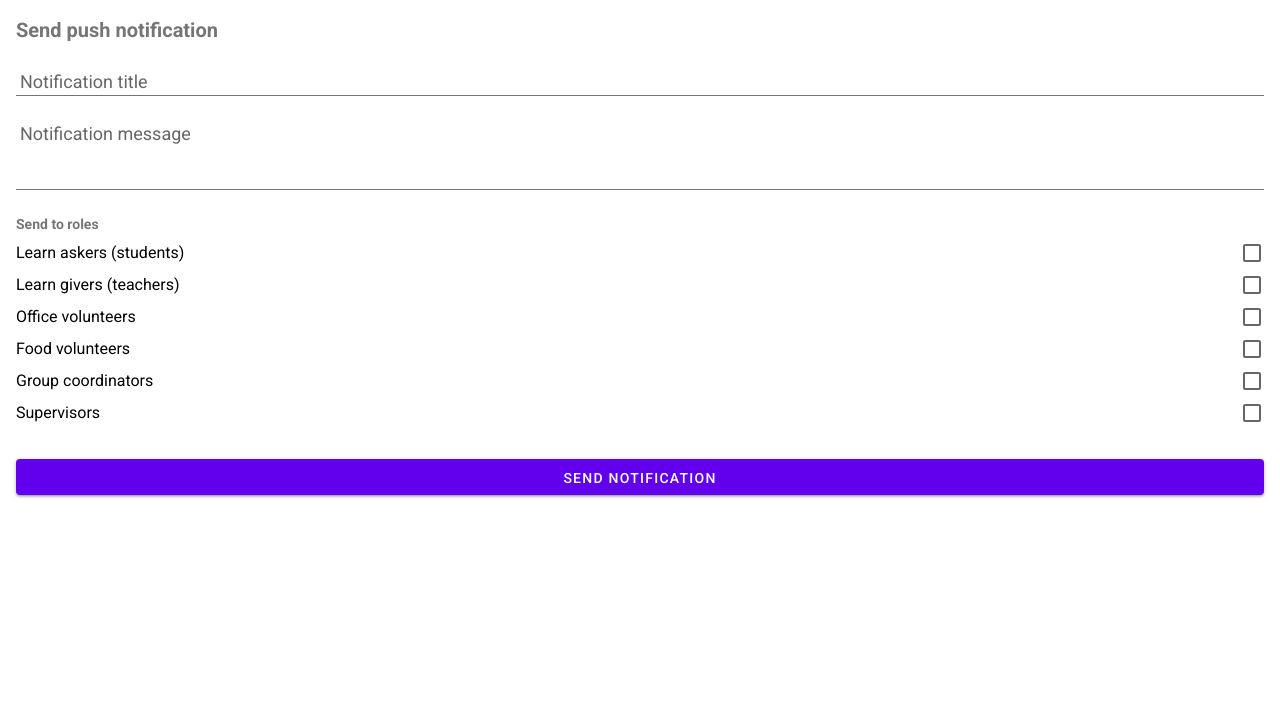
SendNotificationScreen › needs a title, a message and a role
This screenshot has width=1280, height=720.
Click the button "Send notification" at [640, 477], box x1=16 y1=459 x2=1264 y2=495
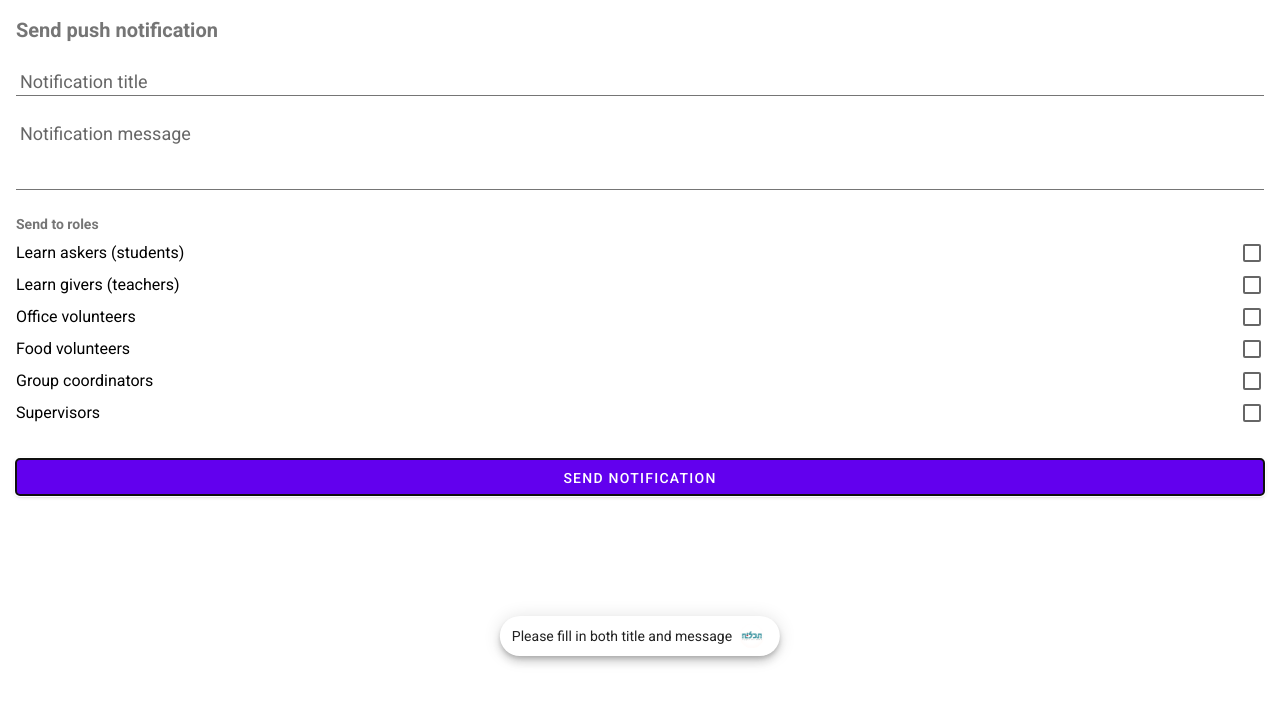
Check: the message reads "Please fill in both title and message", box x1=512 y1=628 x2=732 y2=644
Type "כותרת" into the field labelled "Notification title" at [640, 78], box x1=16 y1=59 x2=1264 y2=96
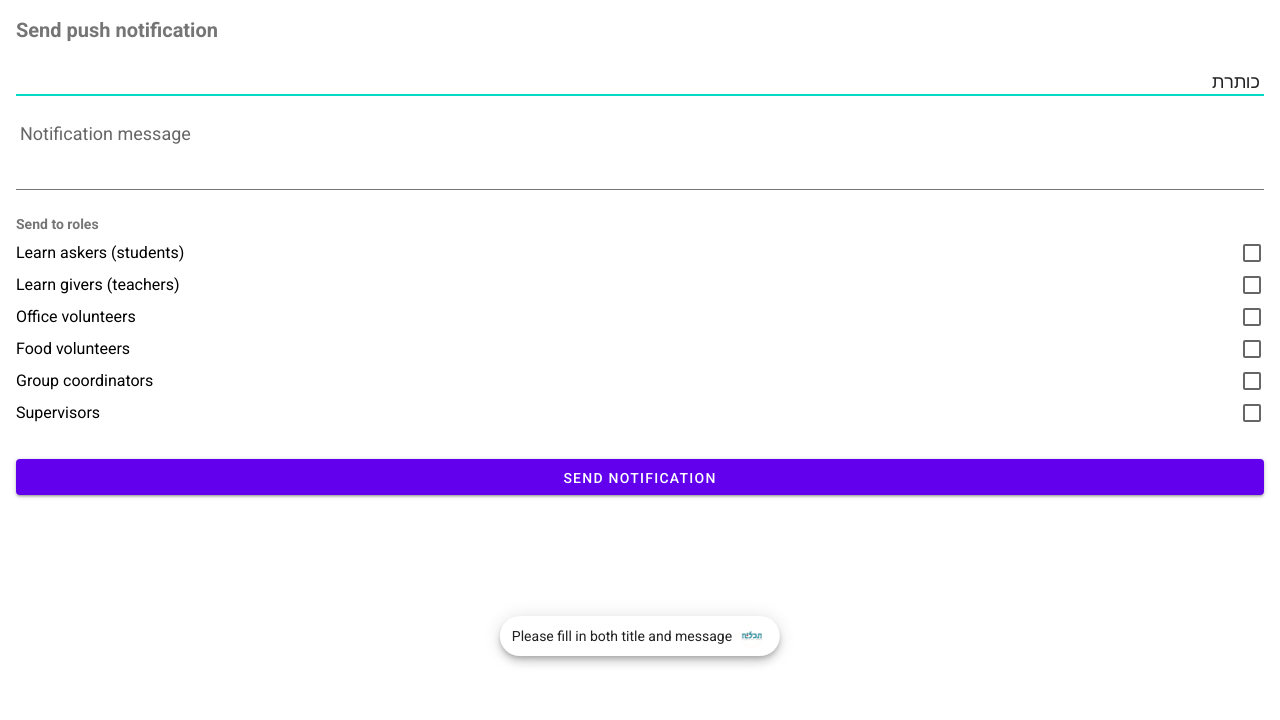
Type "תוכן" into the text box labelled "Notification message" at [640, 151], box x1=16 y1=112 x2=1264 y2=190
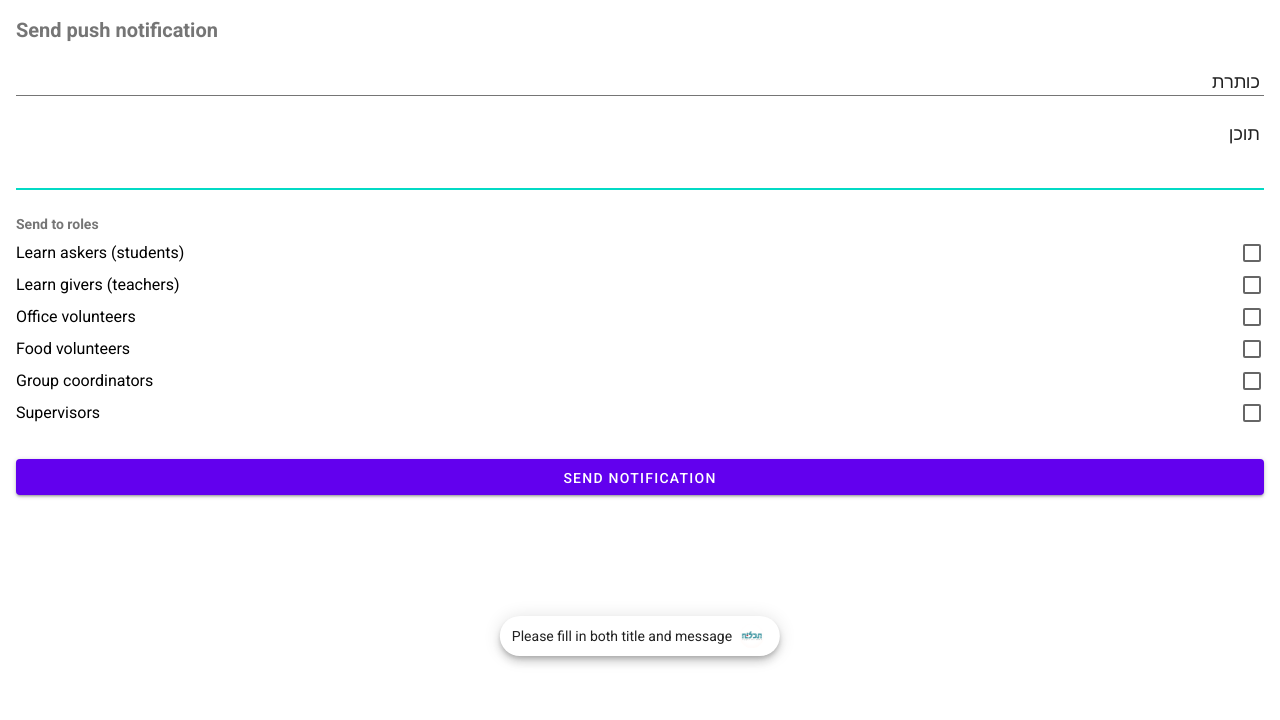
Click the button "Send notification" at [640, 477], box x1=16 y1=459 x2=1264 y2=495
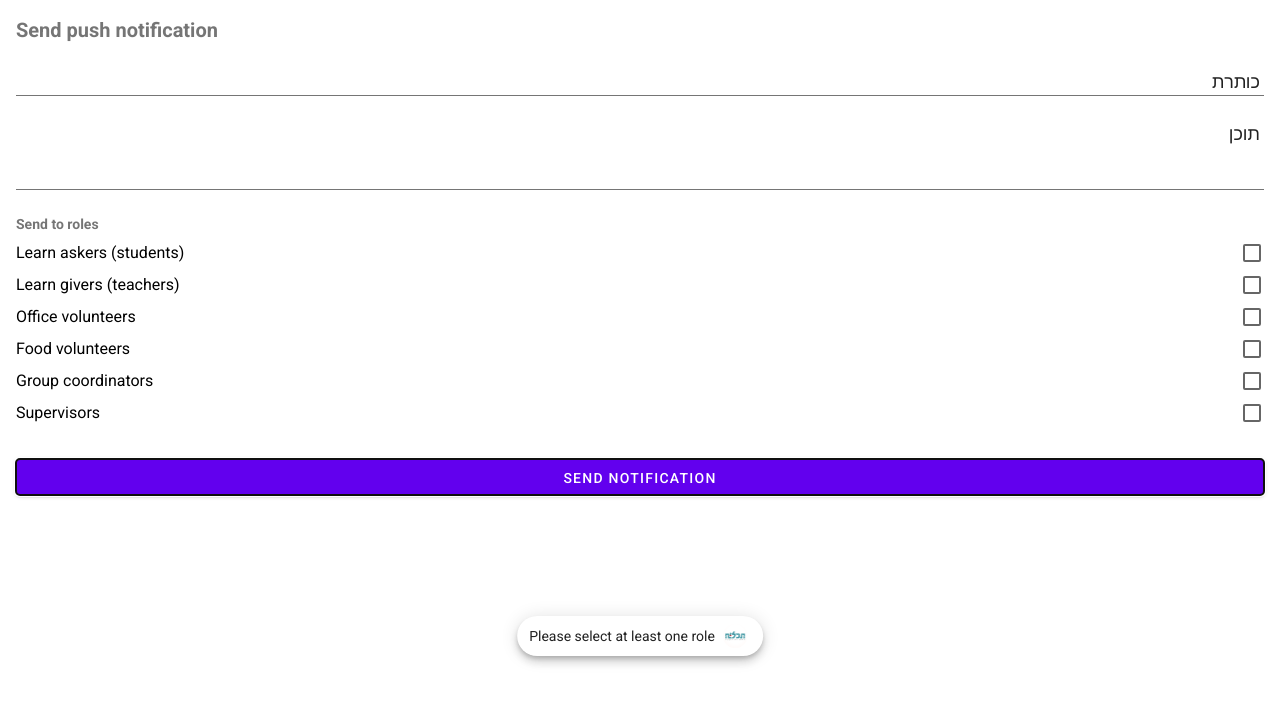
Check: the message reads "Please select at least one role", box x1=529 y1=628 x2=715 y2=644
